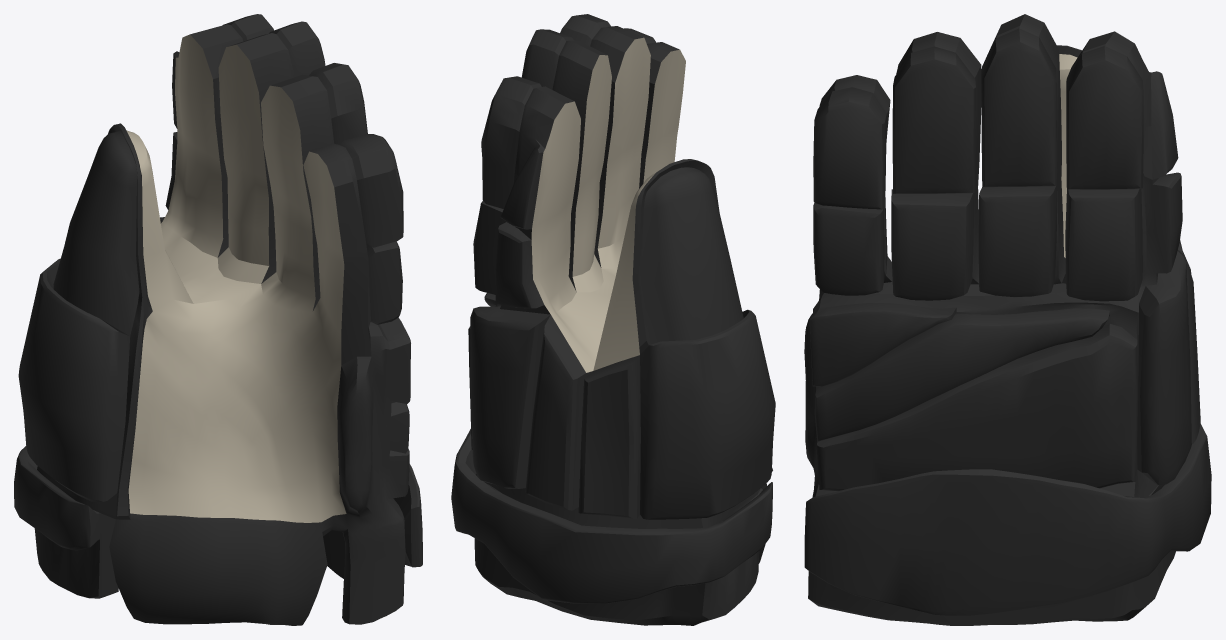
File: hockeyglove.fbx
3 views of the same model, side by side, from view 1: azimuth 30°, elevation 25°; view 2: azimuth 150°, elevation 25°; view 3: azimuth 270°, elevation 25° (orthographic). The views are drawn at different scales.
Visible parts, largest first — view 1: Glove; view 2: Glove; view 3: Glove.
Boxes of the visible parts, x1,y1,x2,y2 form: Glove: (14,14,422,625); Glove: (451,14,775,625); Glove: (804,14,1211,625).
Bounding box in the file's own units: 15.79 × 27.67 × 17.46.
